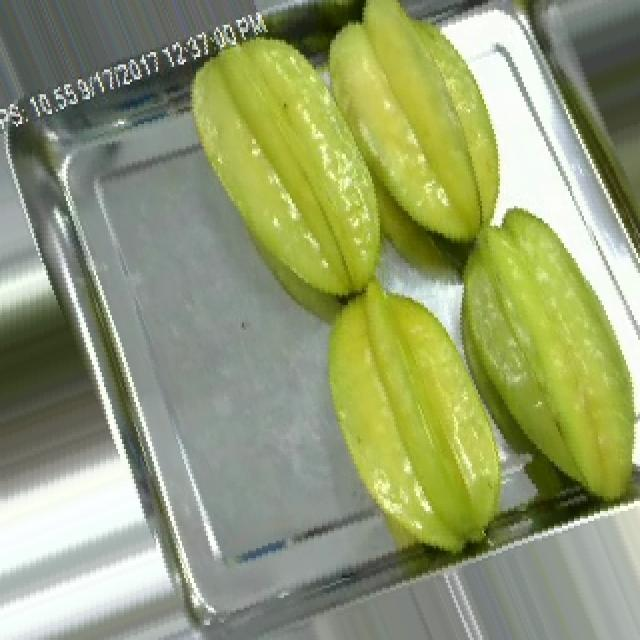fruit: (172, 0, 548, 327), (282, 260, 544, 583), (414, 181, 640, 533), (562, 20, 640, 285)
